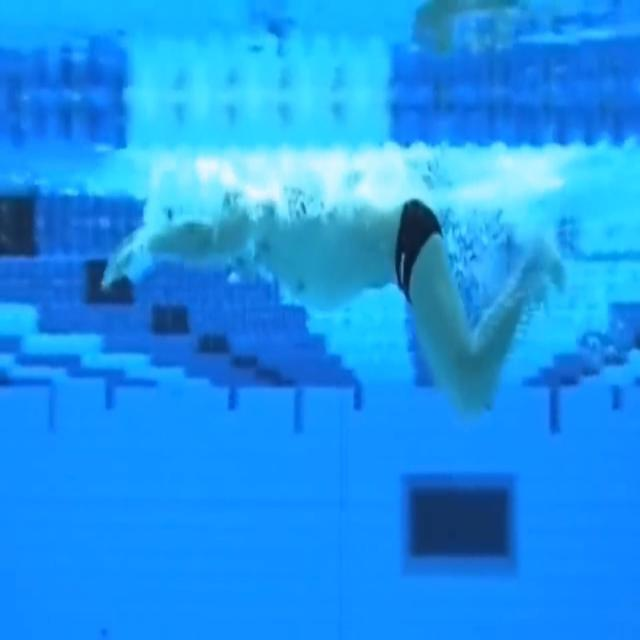Swimming: (102, 195, 568, 420)
